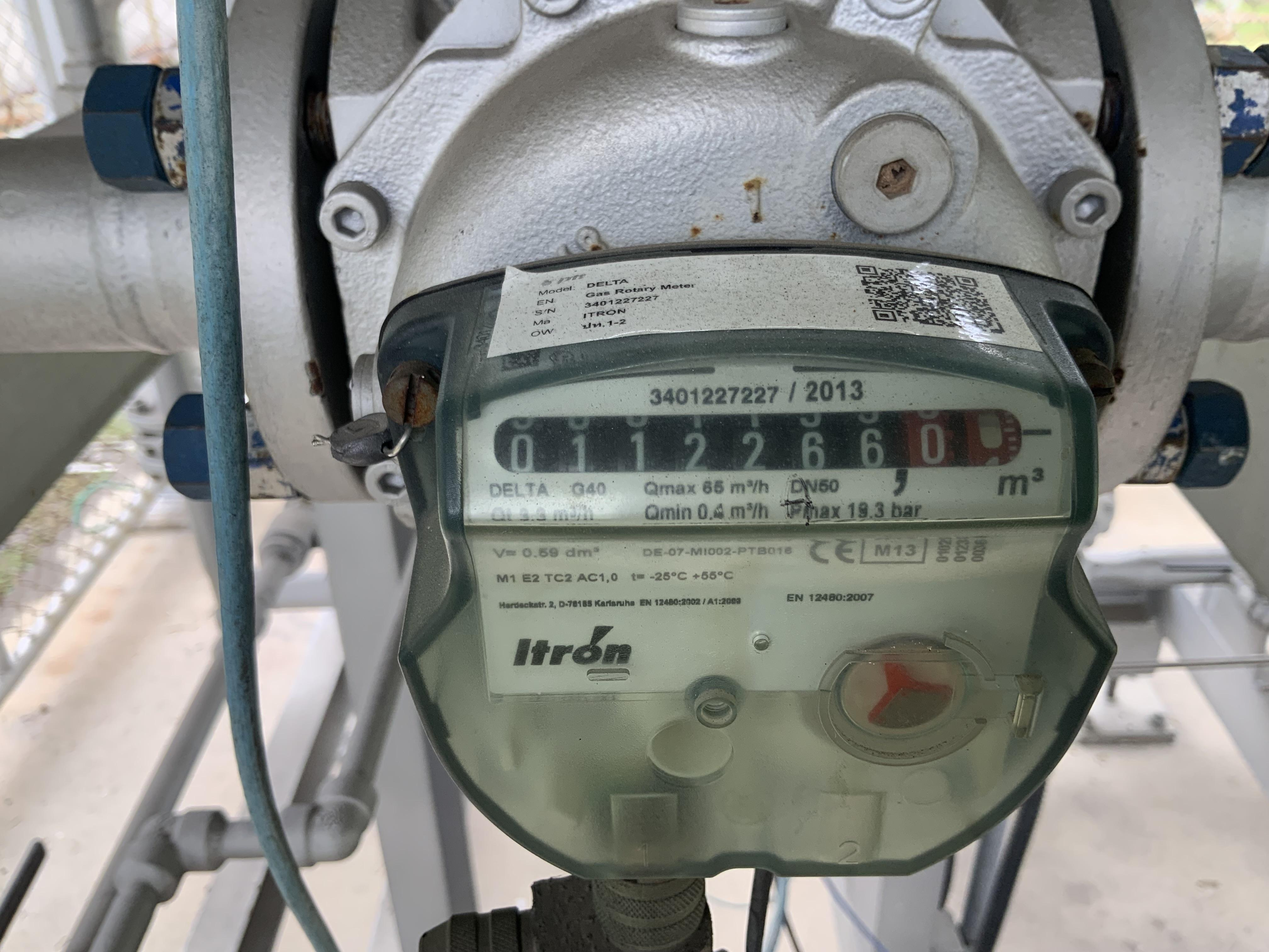analog_dial: (488, 403, 1052, 478)
